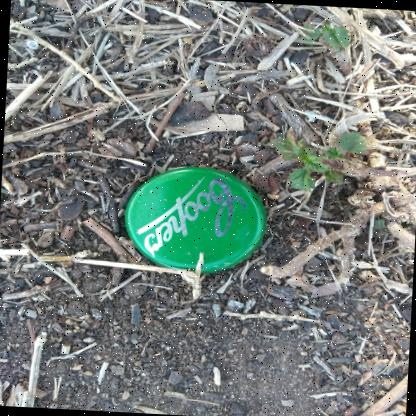Metal bottle cap: (125, 166, 268, 273)
